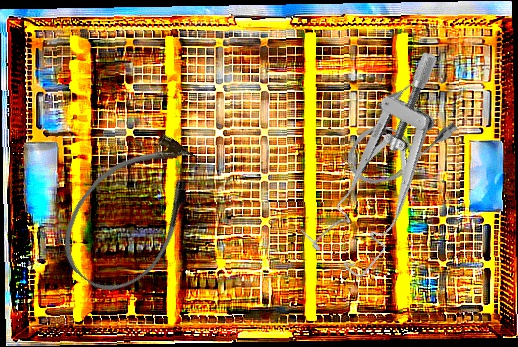Cannula: (43, 117, 224, 308), (329, 69, 466, 201)
Speculum: (281, 46, 501, 286)
